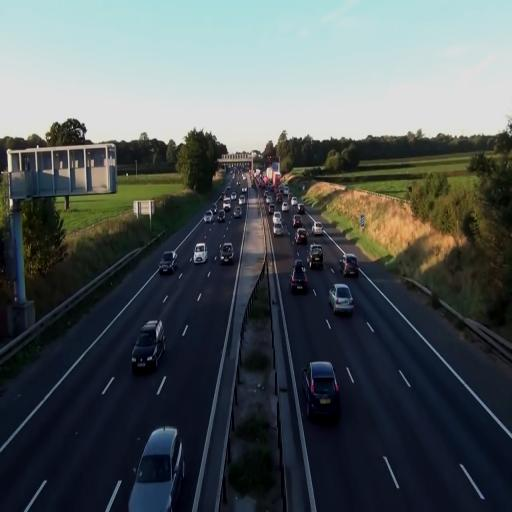vehicle: (128, 425, 185, 512), (302, 361, 341, 420), (130, 320, 165, 374), (328, 282, 354, 315), (290, 262, 308, 294), (341, 252, 359, 278), (218, 241, 235, 265), (308, 243, 323, 270), (160, 250, 175, 276), (193, 241, 208, 263), (272, 212, 285, 236), (232, 198, 246, 219)
